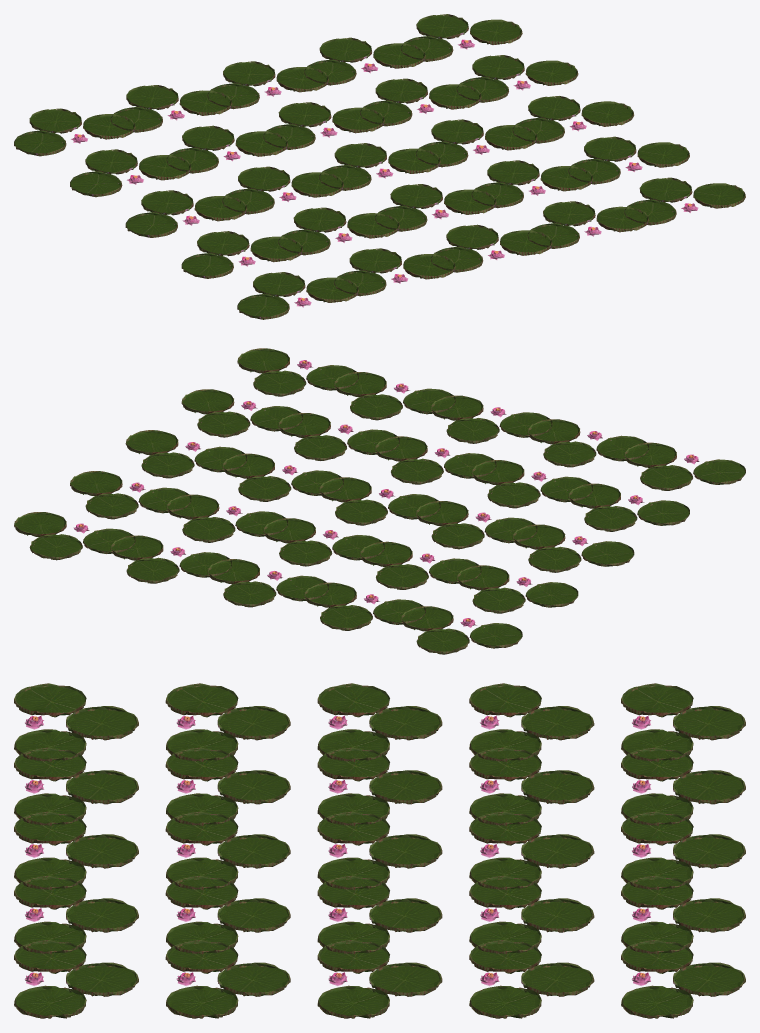
File: lily_merged.glb
The picture shows the model from 3 angles, top to bottom: view 1: azimuth 30°, elevation 25°; view 2: azimuth 150°, elevation 25°; view 3: azimuth 270°, elevation 25°; orthographic projection. The views are drawn at different scales.
Parts seen in each view (by area): view 1: output_unwrapped; view 2: output_unwrapped; view 3: output_unwrapped.
Part boxes in pixels (bbox=[...]): output_unwrapped: bbox=[14, 14, 745, 319]; output_unwrapped: bbox=[14, 348, 745, 654]; output_unwrapped: bbox=[14, 683, 745, 1018].
Size of the model in its own units: 8.29 by 0.1021 by 7.72.
1 material, 1 textured.
